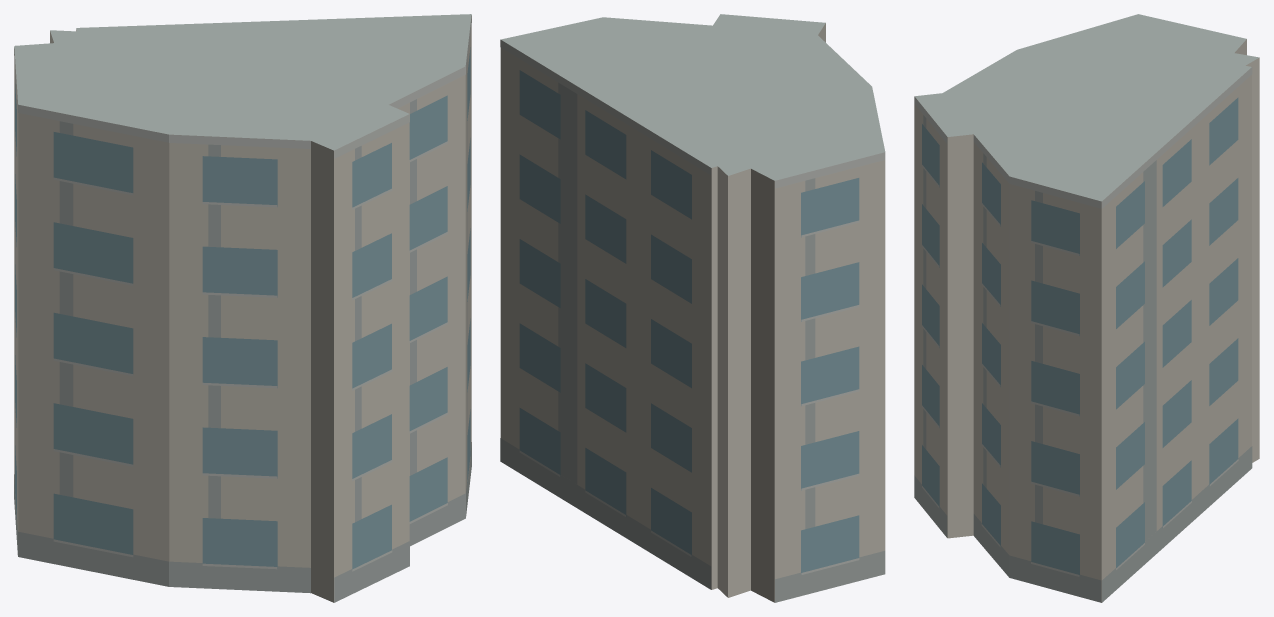
File: survey-upis-32733890.glb
3 views of the same model, side by side, from view 1: azimuth 30°, elevation 25°; view 2: azimuth 150°, elevation 25°; view 3: azimuth 270°, elevation 25° (orthographic). The views are drawn at different scales.
Parts seen in each view (by area): view 1: survey-upis-32733890.tmp; view 2: survey-upis-32733890.tmp; view 3: survey-upis-32733890.tmp.
Boxes of the visible parts, left/top/right/bottom form: survey-upis-32733890.tmp: left=14, top=14, right=471, bottom=602; survey-upis-32733890.tmp: left=500, top=14, right=885, bottom=602; survey-upis-32733890.tmp: left=914, top=14, right=1259, bottom=602.
Size of the model in its own units: 13.33 by 13.3 by 10.37.
